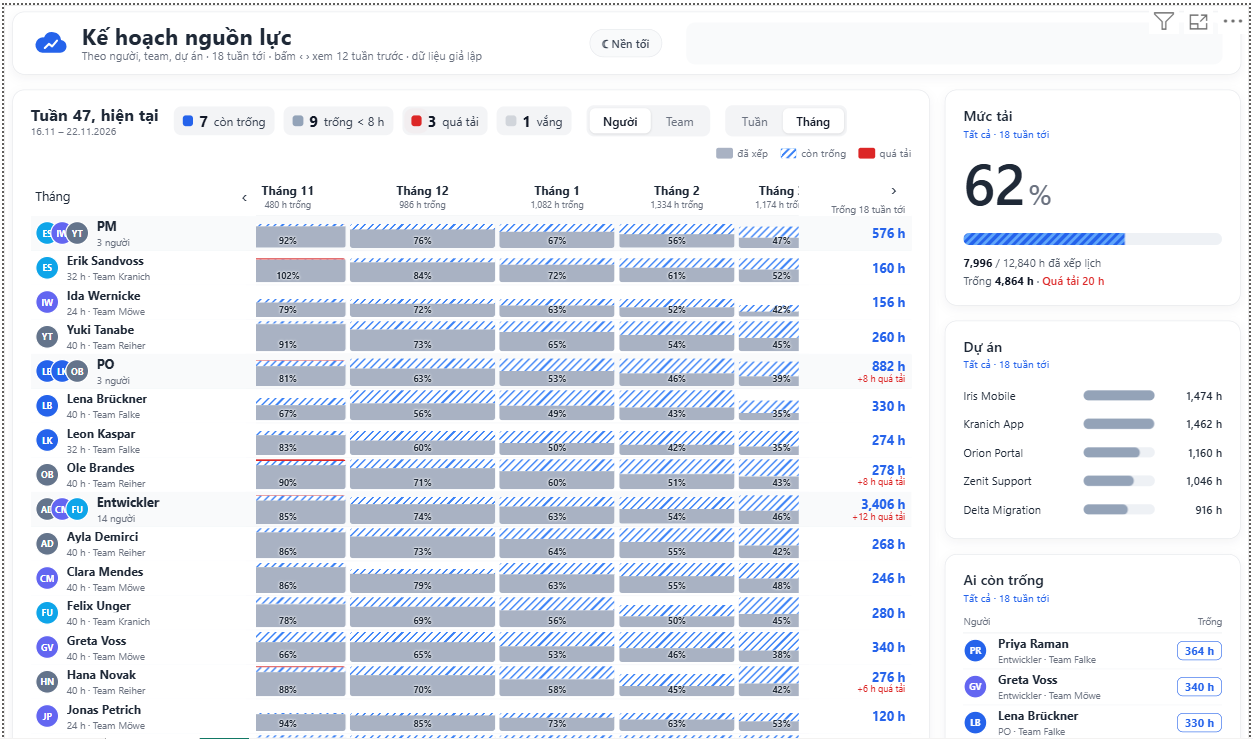

This screenshot's page, from the dashboard's own definition file:
{"tool":"powerbi","page":{"name":"Page 1","canvas":[1660,1720],"ordinal":0},"visuals":[{"type":"htmlContent443BE3AD55E043BF878BED274D3A6855","fields":{"content":["_Measure.HTML Ressourcenplanung"]},"box":[0,0,1660,1720],"z":0}]}

Visuals, with their boxes on the page's 1660x1720 design canvas (x1, y1, x2, y2). These are canvas units, not pixel positions in the 1253x739 screenshot, which may show the page scaled, cropped or inside an application window:
htmlContent443BE3AD55E043BF878BED274D3A6855 - _Measure.HTML Ressourcenplanung: [0,0,1660,1720]
